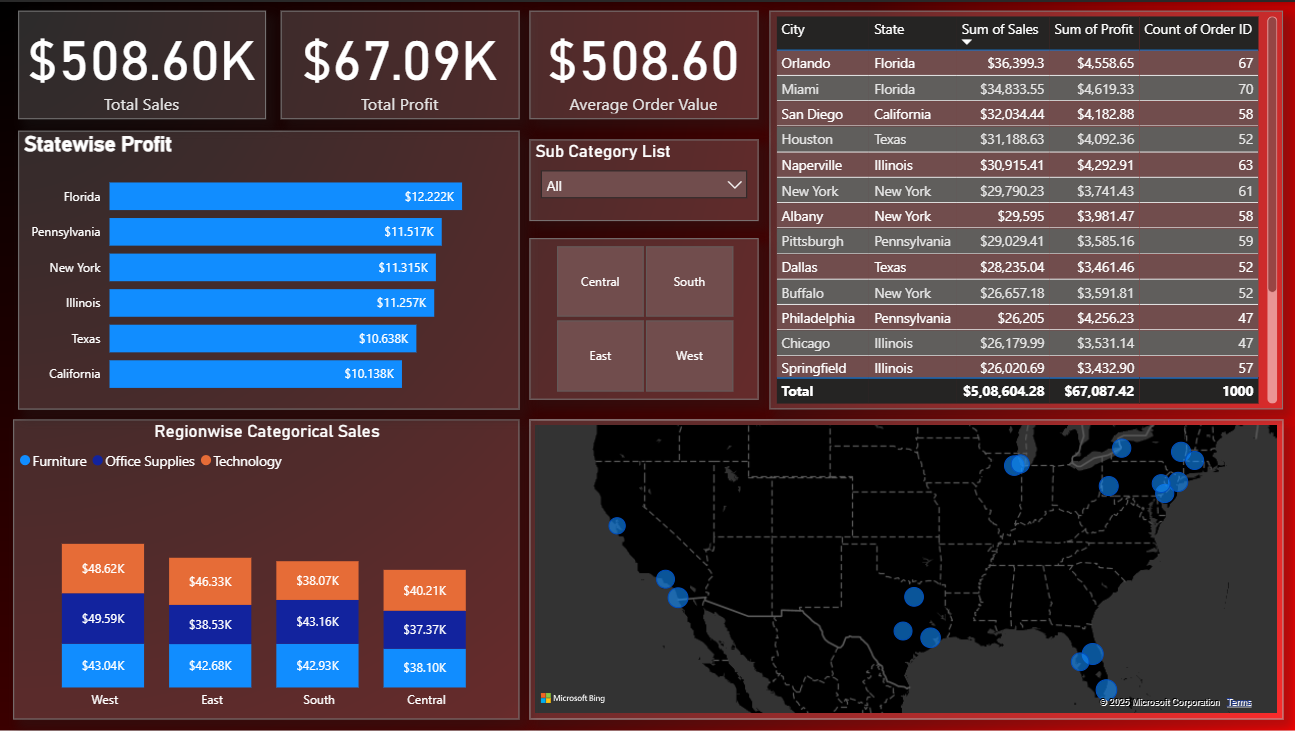

What the dashboard file says about the page in this screenshot:
{"tool":"powerbi","page":{"name":"Geographic Sales & Profit Analysis","canvas":[1280,720],"ordinal":4},"visuals":[{"type":"map","fields":{"Category":["Sample_SalesData.City"],"Size":["Sum(Sample_SalesData.Sales)"]},"box":[522.7,409.8,739.9,294.5],"z":0},{"type":"columnChart","title":"Regionwise Categorical Sales","fields":{"Category":["Sample_SalesData.Region"],"Y":["Sum(Sample_SalesData.Sales)"],"Series":["Sample_SalesData.Category"]},"box":[16,409.8,496.9,294.5],"z":1000},{"type":"barChart","title":"Statewise Profit","fields":{"Category":["Sample_SalesData.State"],"Y":["Sum(Sample_SalesData.Profit)"]},"box":[20.9,126.4,492,273.6],"z":2000},{"type":"tableEx","fields":{"Values":["Sample_SalesData.City","Sample_SalesData.State","Sum(Sample_SalesData.Sales)","Sum(Sample_SalesData.Profit)","Sample_SalesData.Order ID"]},"box":[758.3,8.6,504.3,391.4],"z":3000},{"type":"slicer","fields":{"Values":["Sample_SalesData.Region"]},"box":[522.7,231.9,224.5,158.3],"z":4000},{"type":"card","title":"Total Sales","fields":{"Values":["Sum(Sample_SalesData.Sales)"]},"box":[20.9,8.6,242.9,106.7],"z":5000},{"type":"card","title":"Total Profit","fields":{"Values":["Sum(Sample_SalesData.Profit)"]},"box":[278.5,8.6,234.4,106.7],"z":6000},{"type":"card","title":"Average Order Value","fields":{"Values":["DateTable.AverageOrderValue"]},"box":[522.7,8.6,224.5,106.7],"z":7000},{"type":"slicer","title":"Sub Category List","fields":{"Values":["Sample_SalesData.Sub-Category"]},"box":[522.7,135,224.5,79.8],"z":8000}]}

Visuals, with their boxes in screenshot pixels (x1, y1, x2, y2), scaled from the page's 1280x720 canvas onto the 1295x731 screenshot:
map - Sample_SalesData.City x Sum(Sample_SalesData.Sales): region(529, 416, 1277, 715)
"Regionwise Categorical Sales" columnChart: region(16, 416, 519, 715)
"Statewise Profit" barChart: region(21, 128, 519, 406)
tableEx - Sample_SalesData.City x Sample_SalesData.State: region(767, 9, 1277, 406)
slicer - Sample_SalesData.Region: region(529, 235, 756, 396)
"Total Sales" card: region(21, 9, 267, 117)
"Total Profit" card: region(282, 9, 519, 117)
"Average Order Value" card: region(529, 9, 756, 117)
"Sub Category List" slicer: region(529, 137, 756, 218)
